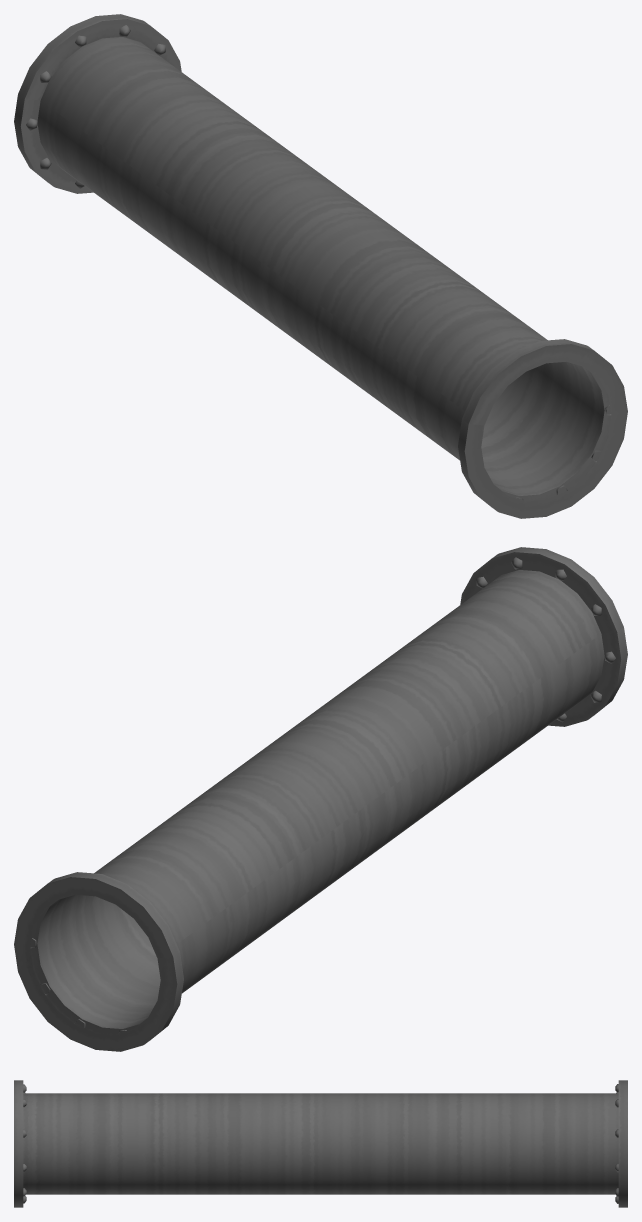
3 renders of one model, top to bottom at view 1: azimuth 30°, elevation 25°; view 2: azimuth 150°, elevation 25°; view 3: azimuth 270°, elevation 25°, orthographic. The views are drawn at different scales.
Visible parts, largest first — view 1: Straight_Pipe; view 2: Straight_Pipe; view 3: Straight_Pipe.
Part boxes in pixels (left/top/right/bottom): Straight_Pipe: left=14, top=14, right=627, bottom=518; Straight_Pipe: left=14, top=547, right=627, bottom=1051; Straight_Pipe: left=14, top=1080, right=627, bottom=1207.
Bounding box in the file's own units: 0.6276 × 0.6276 × 3.
Materials: 1 (1 with a texture image).
